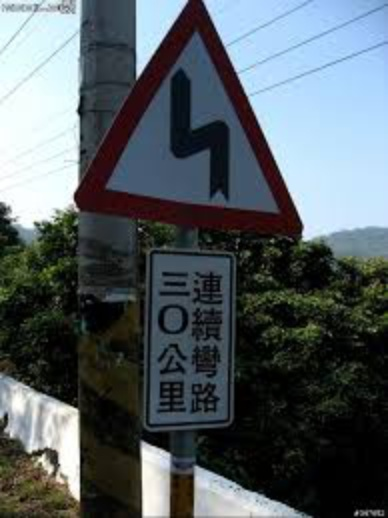Double_bend_left: (74, 1, 306, 237)
